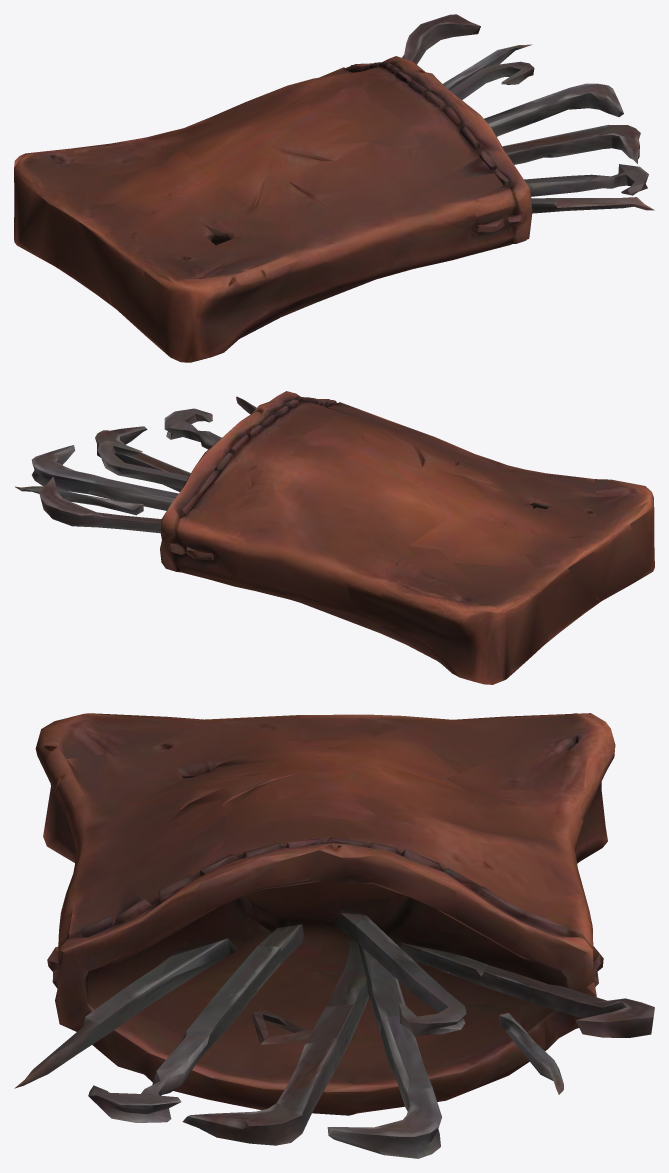
File: tool_lockpick_nabor_idle.glb
3 renders of one model, top to bottom at view 1: azimuth 30°, elevation 25°; view 2: azimuth 150°, elevation 25°; view 3: azimuth 270°, elevation 25°, orthographic. The views are drawn at different scales.
Parts seen in each view (by area): view 1: tripo_node_e62bcb0d-758f-46c2-89af-6385c12b5045; view 2: tripo_node_e62bcb0d-758f-46c2-89af-6385c12b5045; view 3: tripo_node_e62bcb0d-758f-46c2-89af-6385c12b5045.
Boxes of the visible parts, bbox=[...] form: tripo_node_e62bcb0d-758f-46c2-89af-6385c12b5045: bbox=[14, 14, 654, 362]; tripo_node_e62bcb0d-758f-46c2-89af-6385c12b5045: bbox=[15, 391, 654, 684]; tripo_node_e62bcb0d-758f-46c2-89af-6385c12b5045: bbox=[14, 713, 654, 1158].
Size of the model in its own units: 0.0999 by 0.0267 by 0.066.
Materials: 1 (1 with a texture image).
